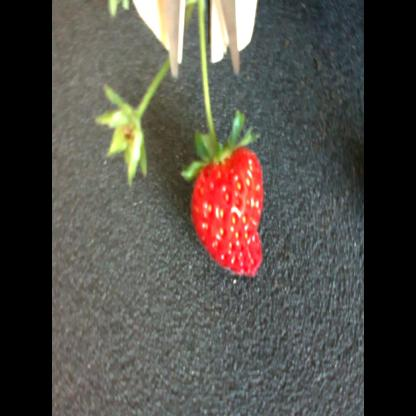ripe: (178, 140, 276, 280)
